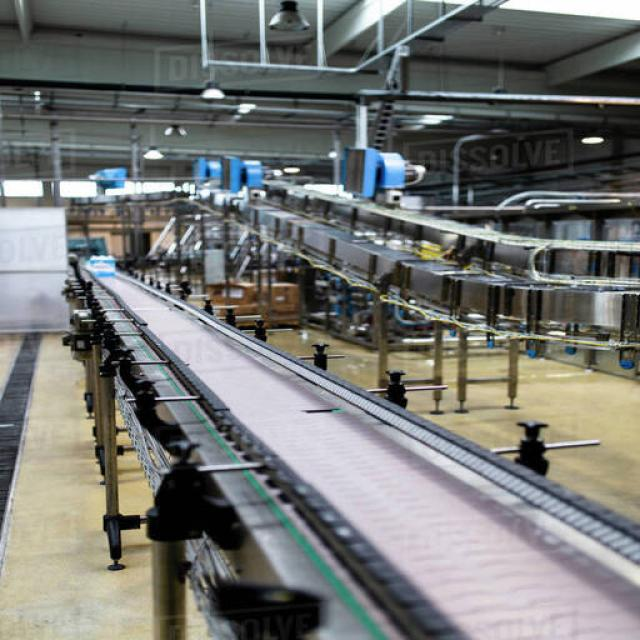conveyor: (85, 266, 639, 638)
